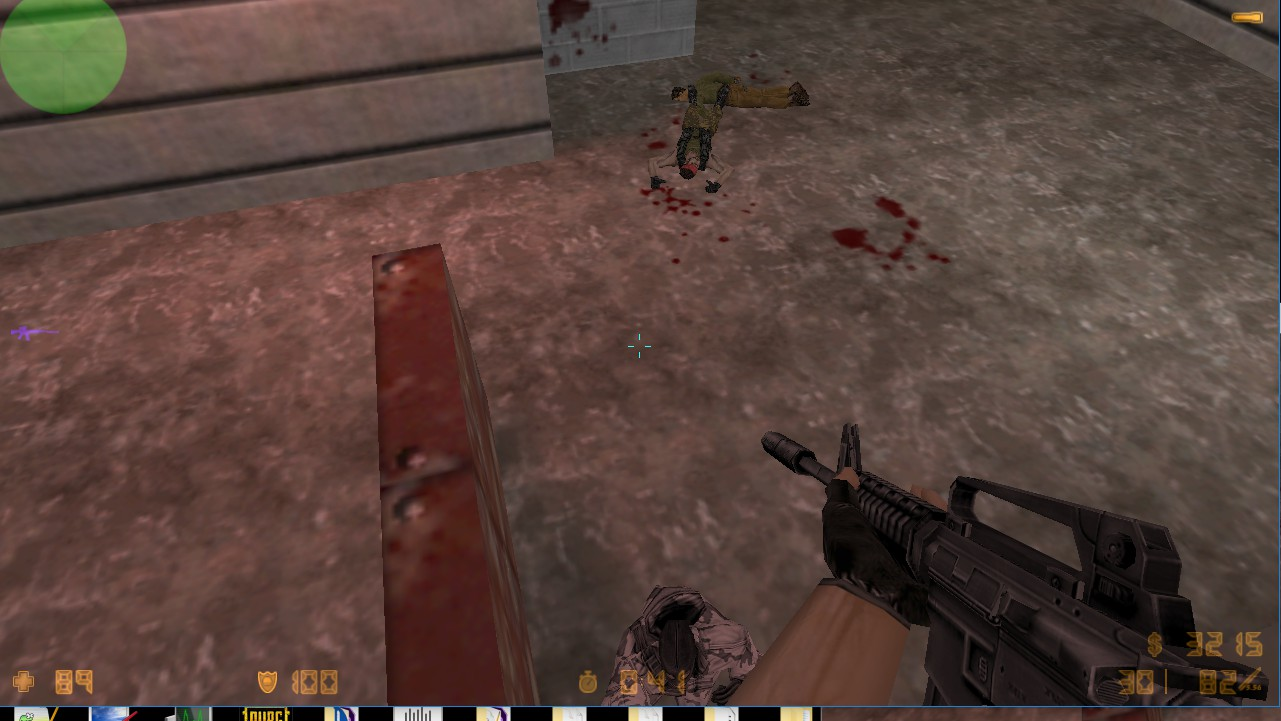person: (601, 572, 751, 705)
